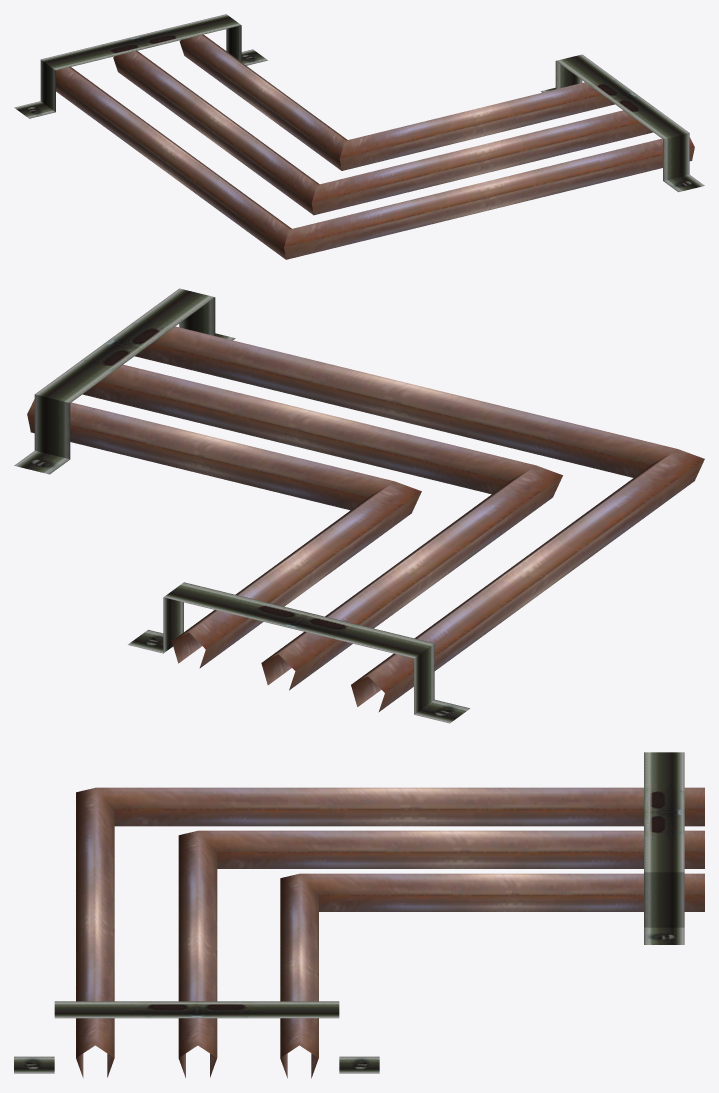
File: ceiling_pipe_corner.fbx
3 renders of one model, top to bottom at view 1: azimuth 30°, elevation 25°; view 2: azimuth 150°, elevation 25°; view 3: azimuth 270°, elevation 25°, orthographic. The views are drawn at different scales.
Visible parts, largest first — view 1: mesh_0; view 2: mesh_0; view 3: mesh_0.
Boxes of the visible parts, x1=… form: mesh_0: x1=14, y1=14, x2=704, y2=259; mesh_0: x1=14, y1=288, x2=704, y2=723; mesh_0: x1=14, y1=752, x2=704, y2=1078.
Size of the model in its own units: 68 by 6 by 68.
Materials: 1 (1 with a texture image).
